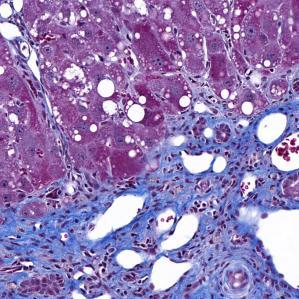fibrosis: (29, 188, 266, 299), (136, 103, 282, 219)
